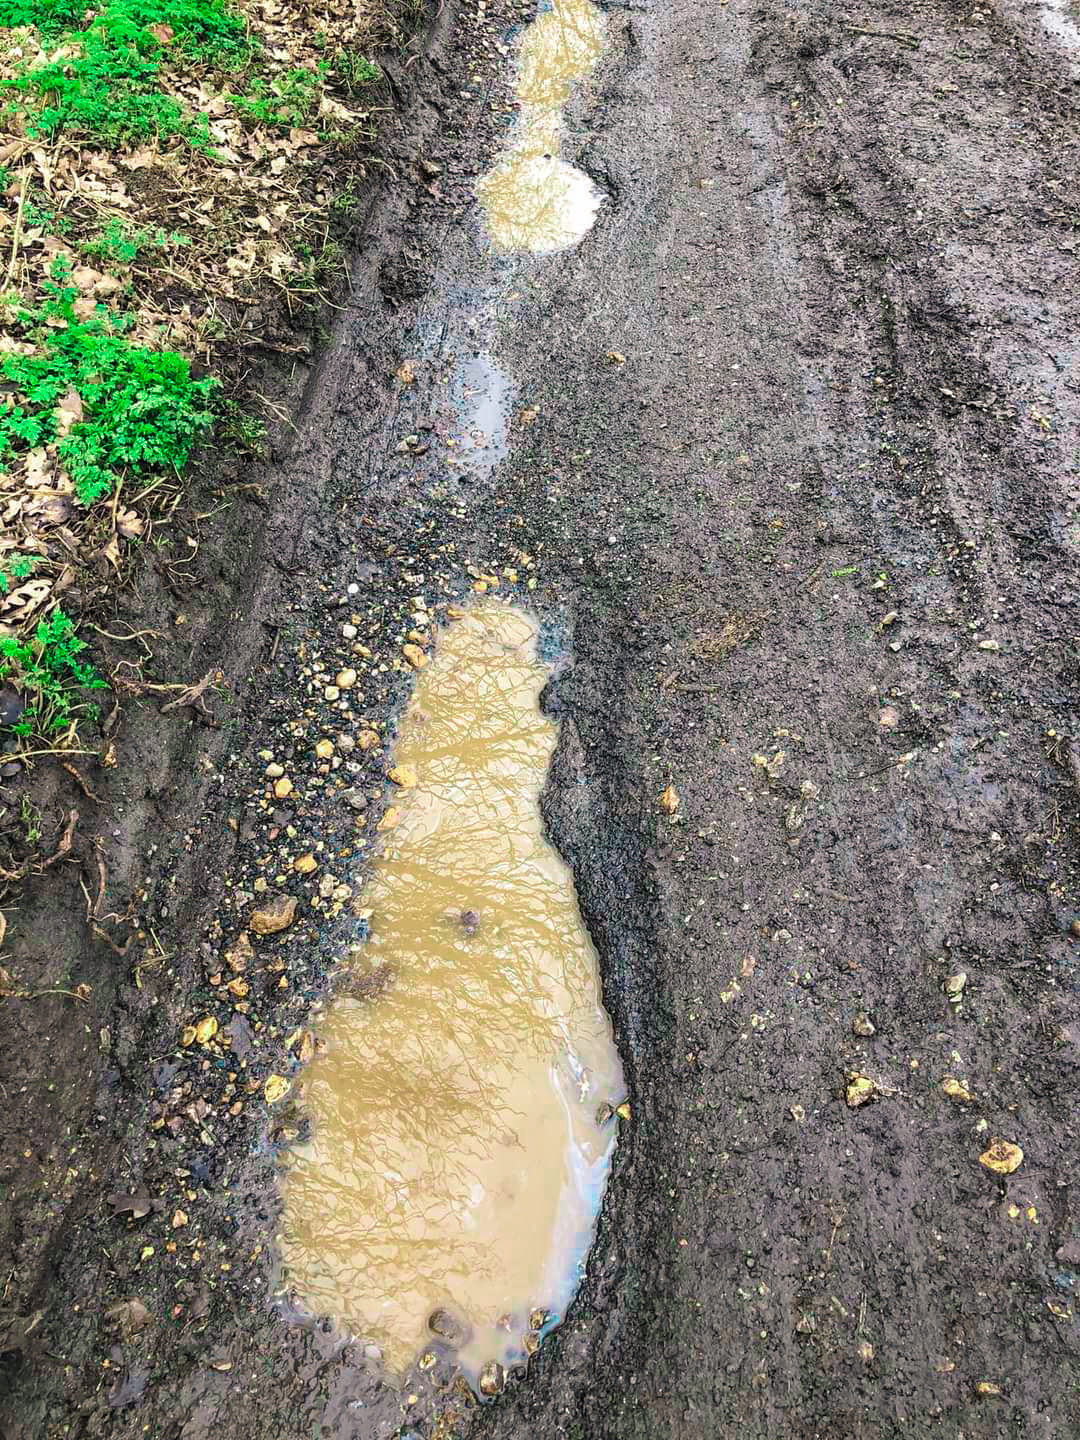potholes: (219, 583, 653, 1396), (432, 3, 659, 263), (399, 332, 541, 495)
